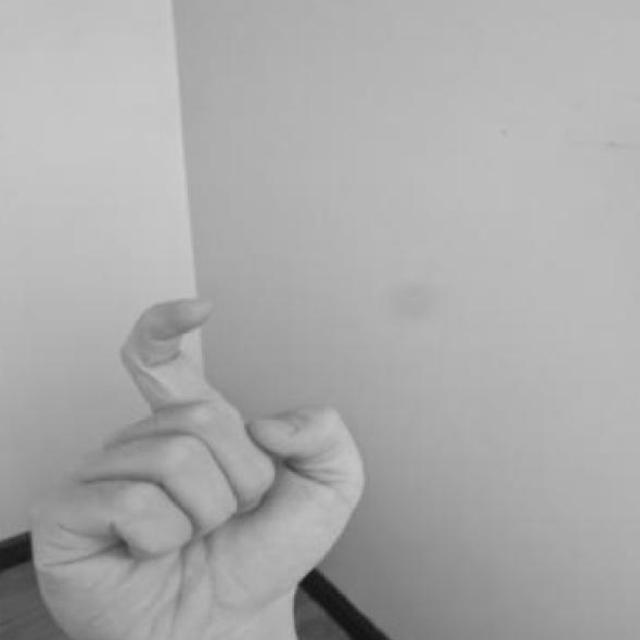X: (4, 285, 384, 640)
